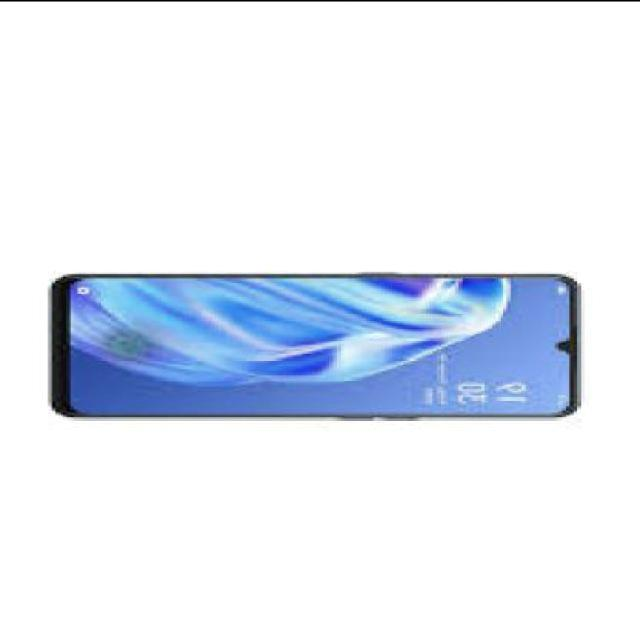phone: (48, 270, 584, 422)
